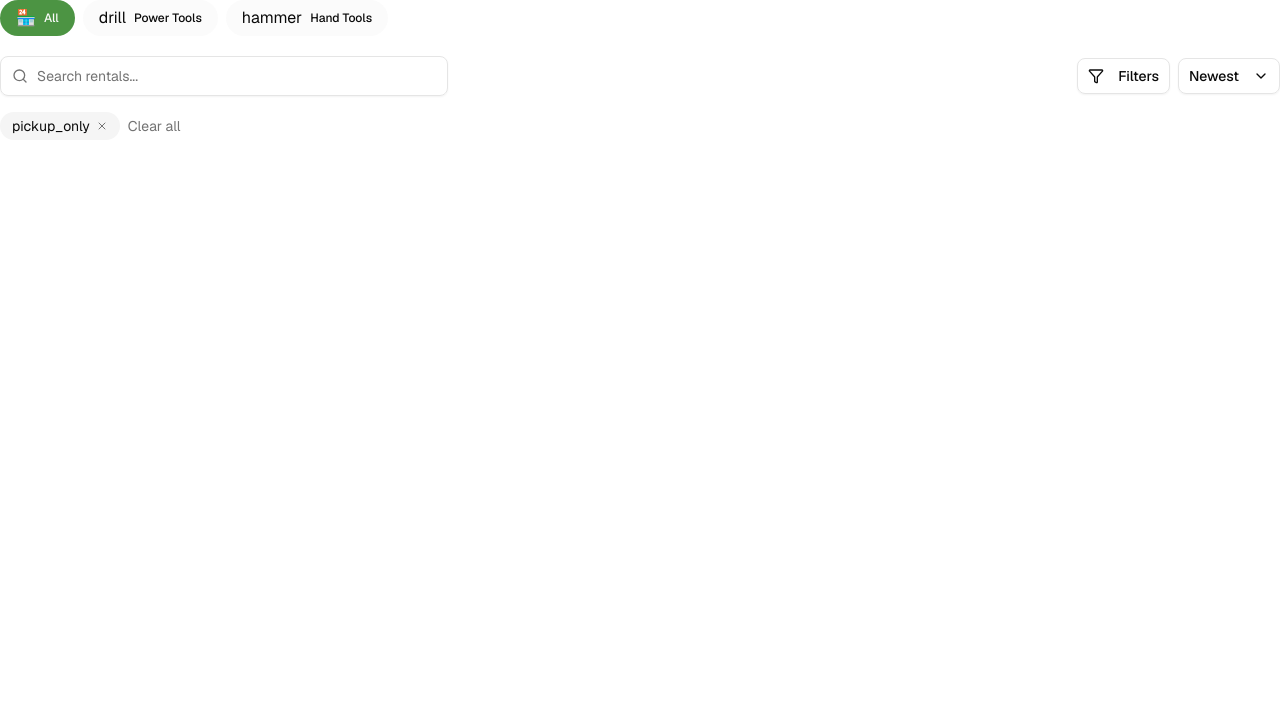
Test: ExplorePageFilters › Sort Functionality › should open sort popover when sort button is clicked
Click the button "Newest" at (1229, 76), box [1178,58,1279,94]
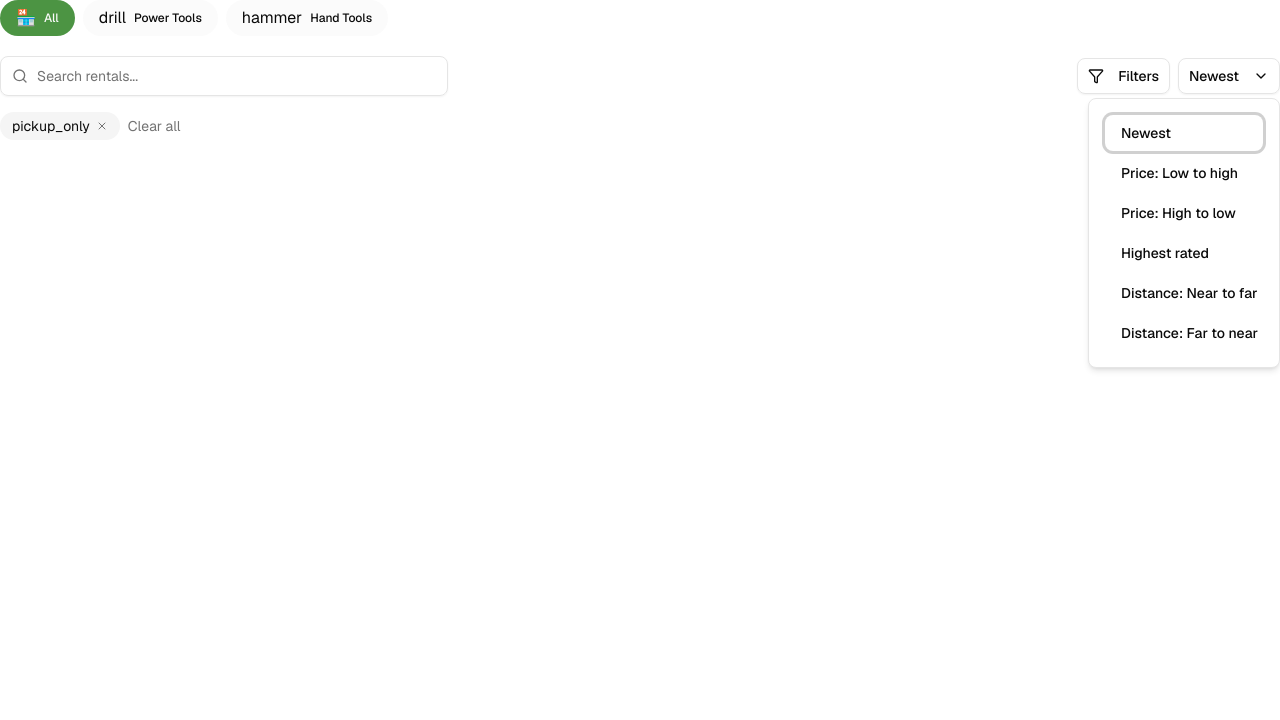
Now the button "Price: Low to high" is shown, box [1105,155,1263,191]
Now the button "Price: High to low" is shown, box [1105,195,1263,231]
Now the button "Highest rated" is shown, box [1105,235,1263,271]
